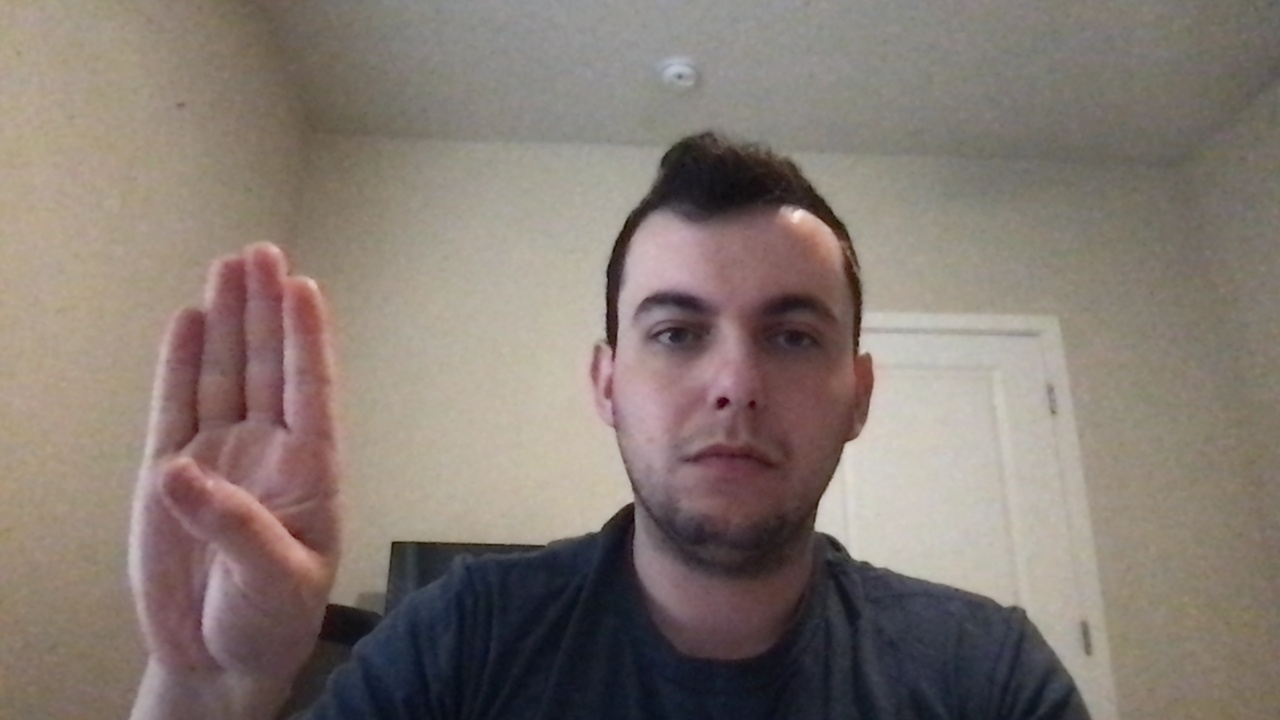b: (105, 238, 347, 688)
